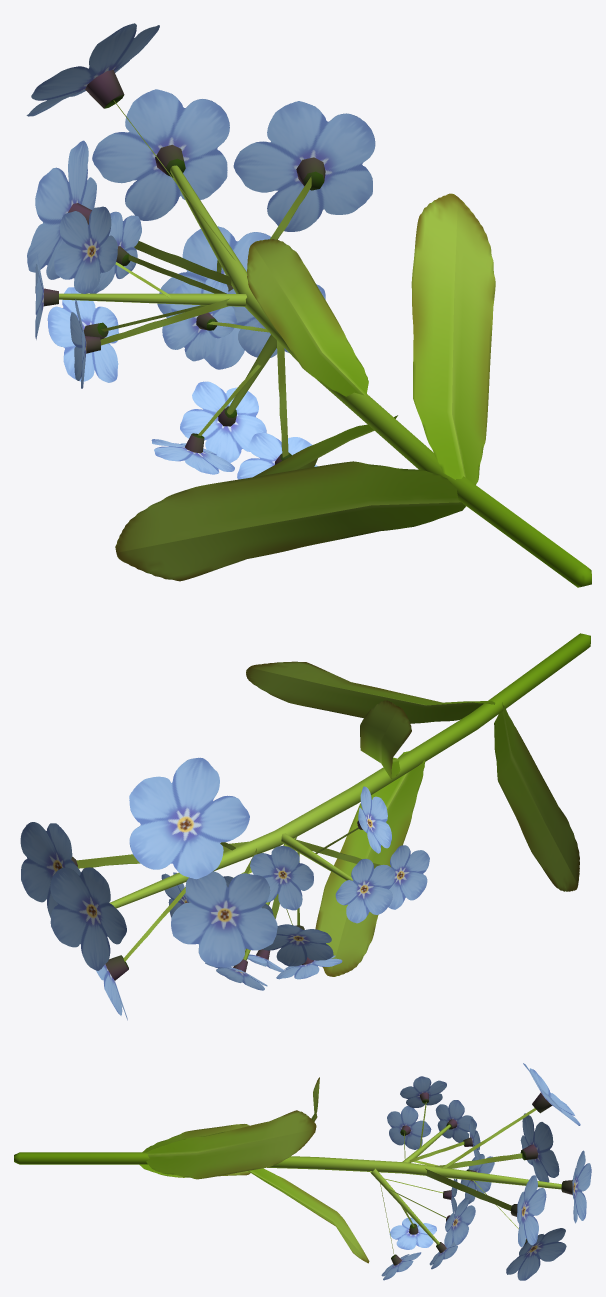
File: SM_Forgetmenot_pastellblue_big.fbx
The picture shows the model from 3 angles, top to bottom: view 1: azimuth 30°, elevation 25°; view 2: azimuth 150°, elevation 25°; view 3: azimuth 270°, elevation 25°; orthographic projection. The views are drawn at different scales.
Parts seen in each view (by area): view 1: Forgetmenot_pastellblue_big; view 2: Forgetmenot_pastellblue_big; view 3: Forgetmenot_pastellblue_big.
Boxes of the visible parts, bbox=[...] form: Forgetmenot_pastellblue_big: bbox=[26, 23, 591, 587]; Forgetmenot_pastellblue_big: bbox=[20, 633, 590, 1020]; Forgetmenot_pastellblue_big: bbox=[14, 1063, 591, 1280].
Bounding box in the file's own units: 48.68 × 36.03 × 89.7.
